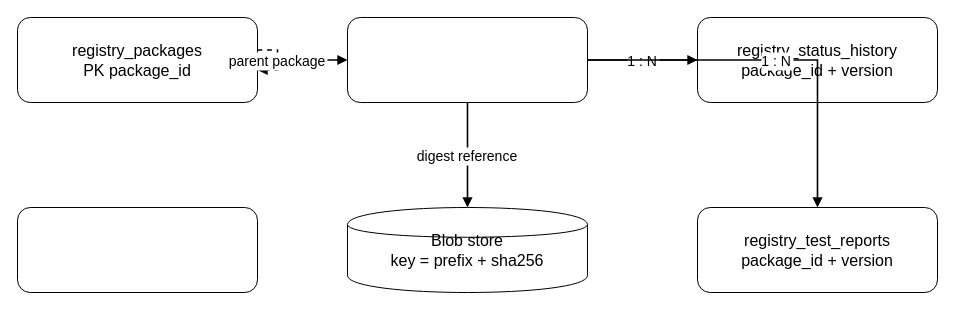
The diagram is 955 pixels wide and 310 high, and some of its shapes have lost their labels. The centre of each missing label's shape, as x and y in pixels:
Own job / idempotency Jane Kit stores: (x=137, y=249)
registry_versions PK package_id + version digest / manifest / status: (x=467, y=59)
